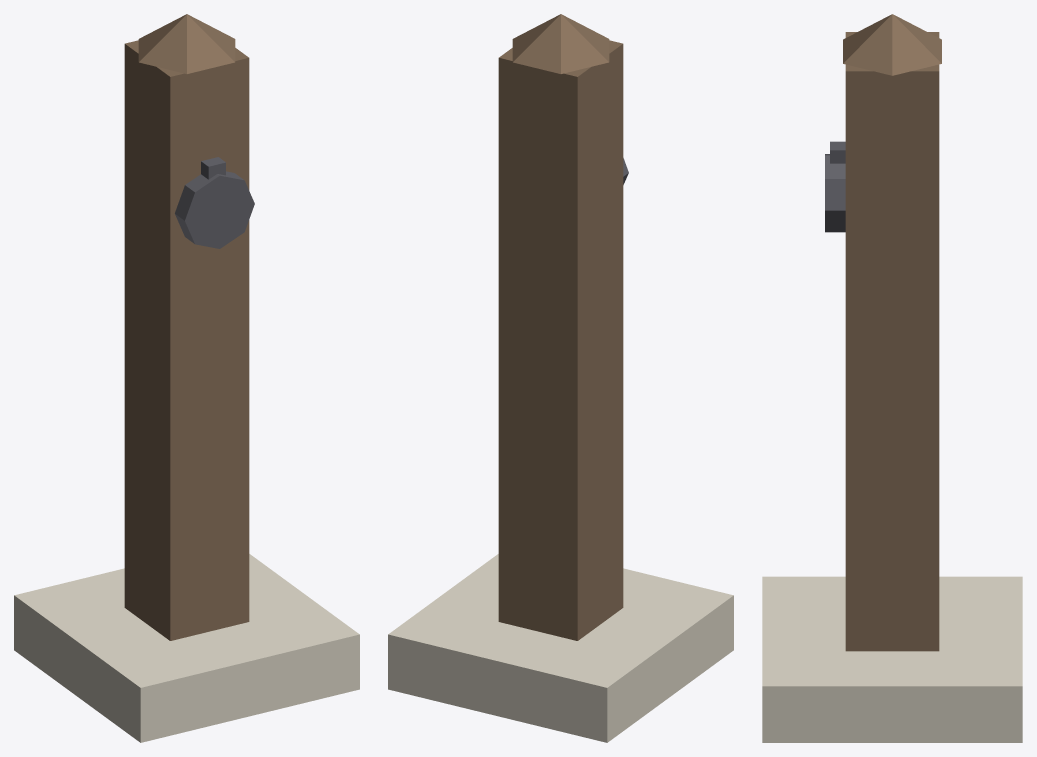
The model's file is hitching_post.glb.
3 renders of one model, left to right at view 1: azimuth 30°, elevation 25°; view 2: azimuth 150°, elevation 25°; view 3: azimuth 270°, elevation 25°, orthographic. The views are drawn at different scales.
Visible parts, largest first — view 1: HitchingPost; view 2: HitchingPost; view 3: HitchingPost.
Boxes of the visible parts, x1=… form: HitchingPost: x1=14, y1=14, x2=359, y2=742; HitchingPost: x1=388, y1=14, x2=733, y2=742; HitchingPost: x1=762, y1=14, x2=1022, y2=742.
Size of the model in its own units: 0.5 by 1.43 by 0.5.
